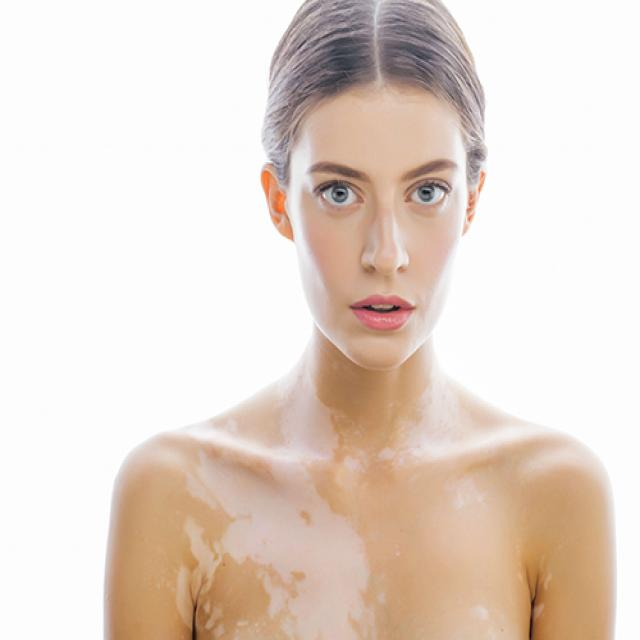vitiligo: (131, 361, 560, 640)
